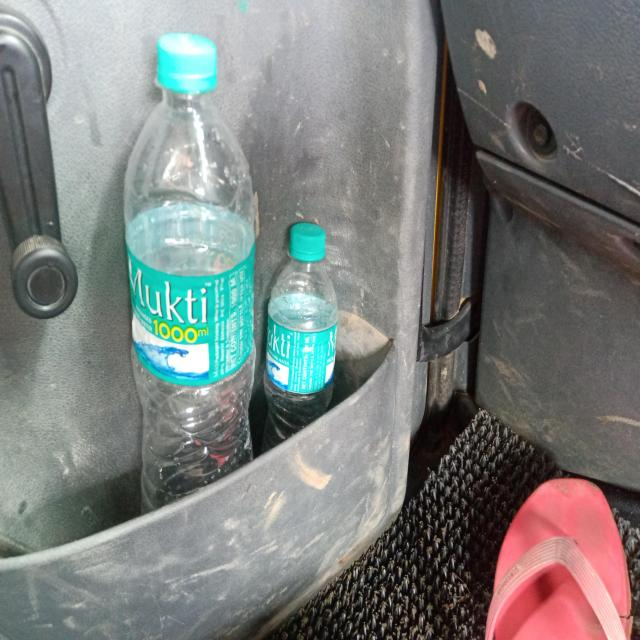bottle: (125, 32, 260, 514), (261, 223, 343, 444)
